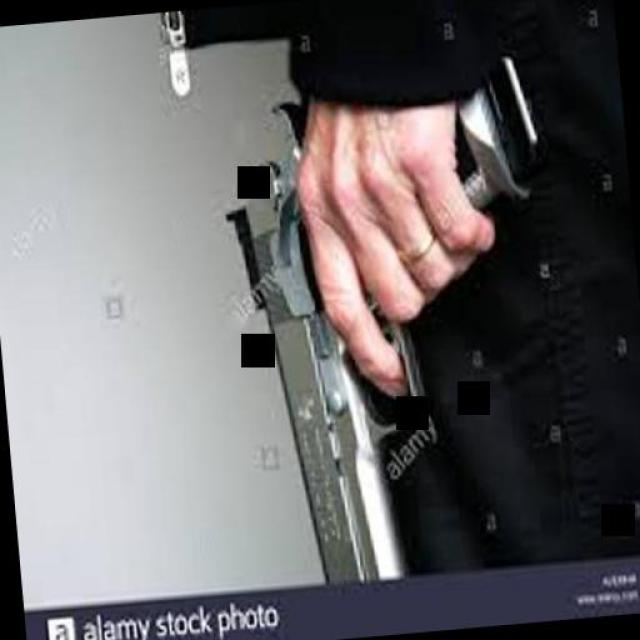gun: (220, 46, 582, 582)
